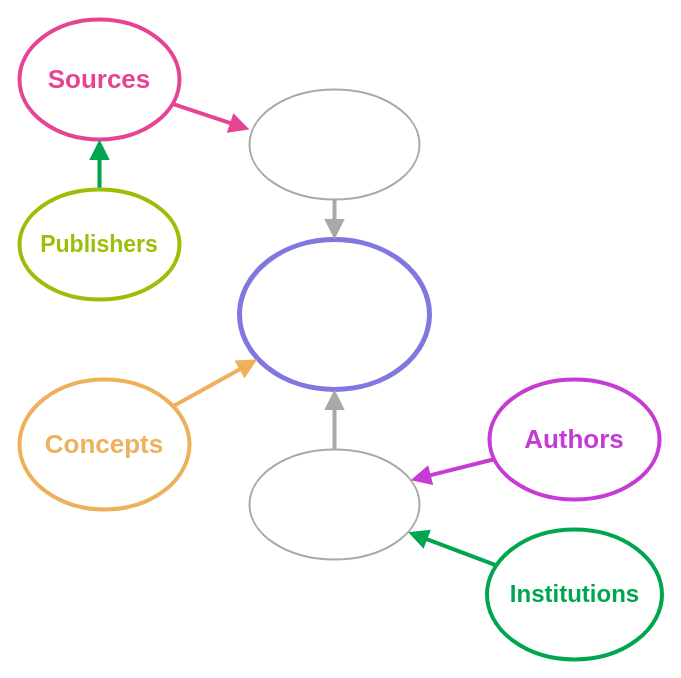
Image size: 681x678. Some labels were removed from this diagram. Each missing label, with the centre of its shape:
"Authorships" belongs at [334,504].
"Locations" belongs at [334,144].
"Works" belongs at [334,314].
